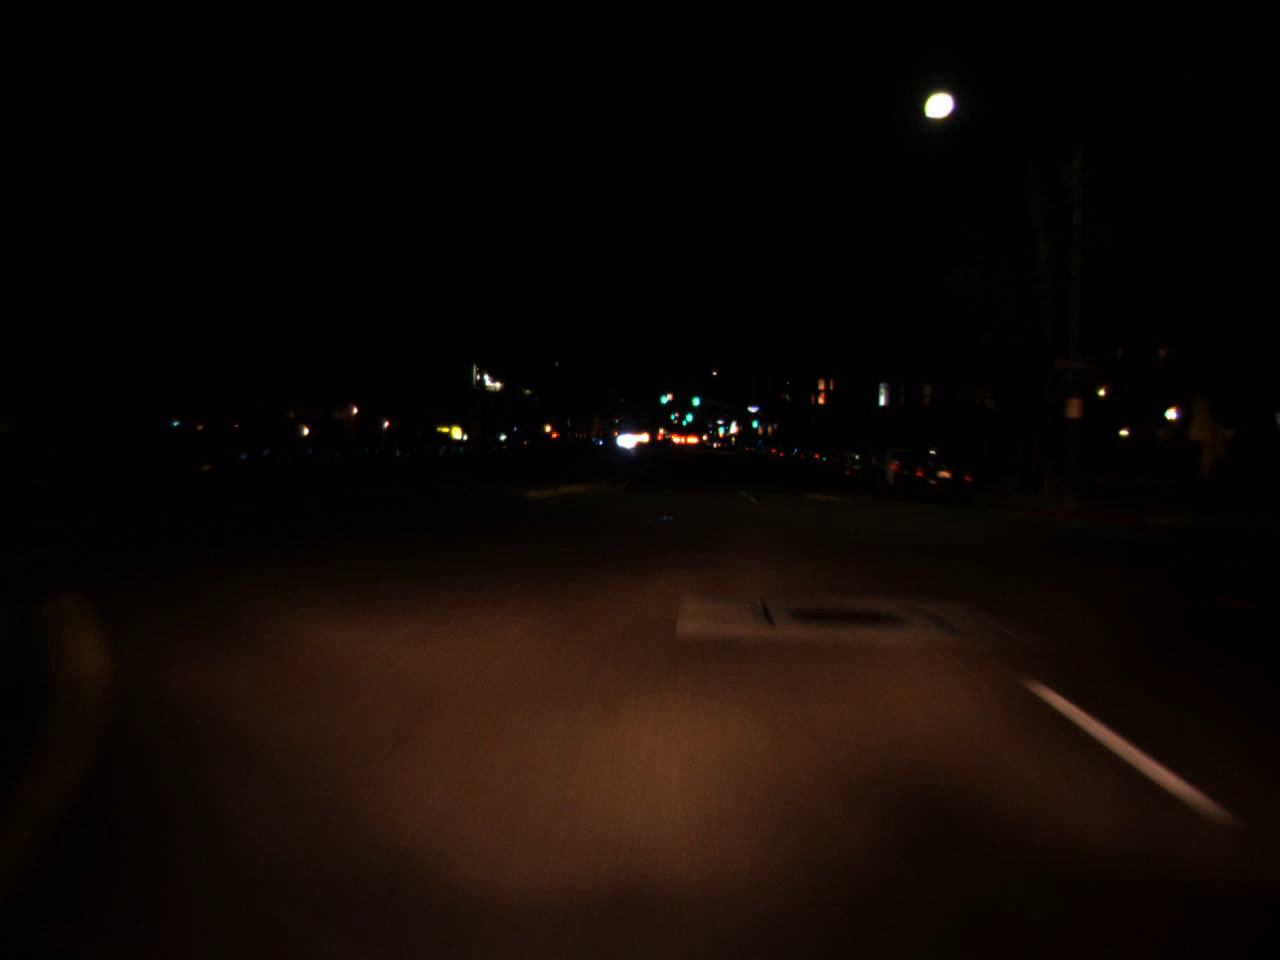go: (657, 384, 669, 408), (689, 386, 699, 410), (683, 403, 693, 424), (751, 414, 758, 429), (718, 422, 725, 434)
